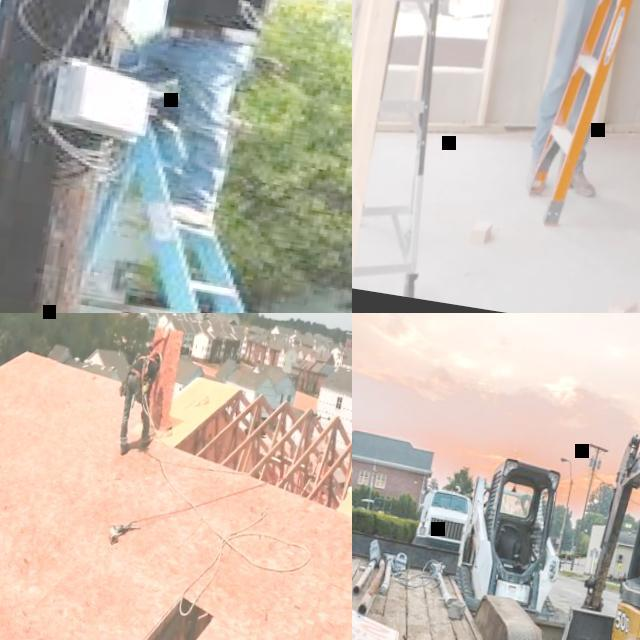helmet: (155, 353, 164, 372)
